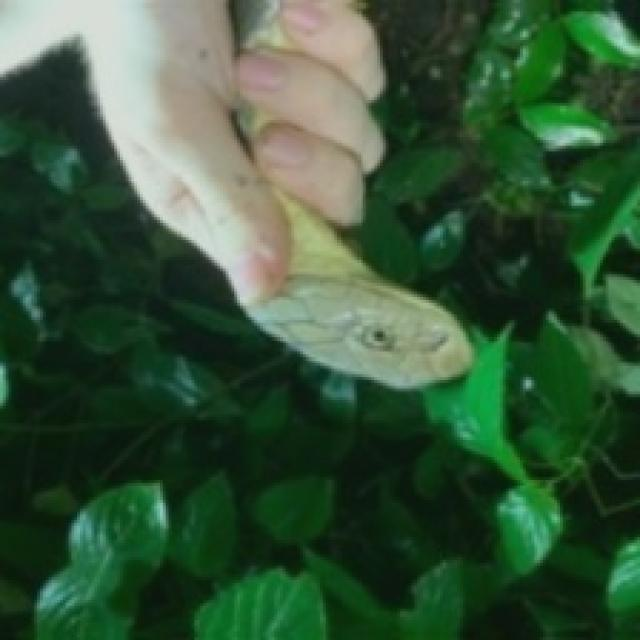king cobra: (0, 0, 469, 386), (234, 0, 469, 386)
